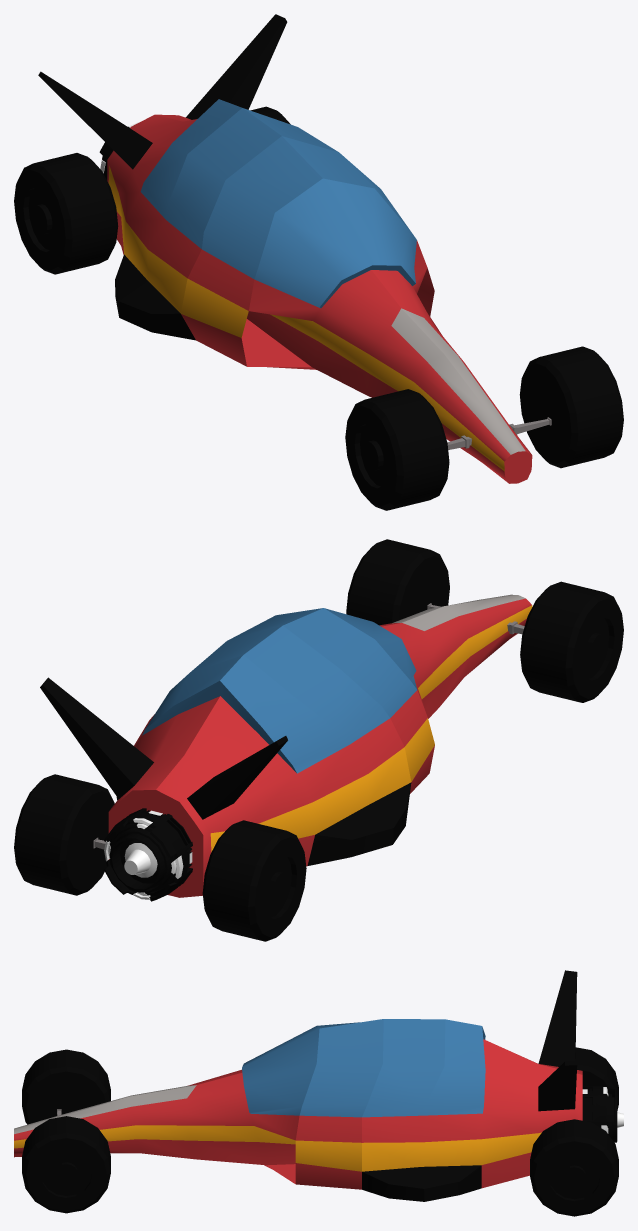
The picture shows the model from 3 angles, top to bottom: view 1: azimuth 30°, elevation 25°; view 2: azimuth 150°, elevation 25°; view 3: azimuth 270°, elevation 25°; orthographic projection. The views are drawn at different scales.
Parts seen in each view (by area): view 1: polySurface8, front right tyre, back right tyre, front left tyre.001, polySurface1, polySurface6, polySurface4, polySurface7; view 2: polySurface8, front right tyre, back right tyre, back left tyre, front left tyre.001, thruster3, polySurface6, polySurface4, polySurface7, polySurface1; view 3: polySurface8, front left tyre.001, back left tyre, front right tyre, polySurface3, polySurface7, polySurface1, thruster3, polySurface6, back right tyre.
Part boxes in pixels (left/top/right/bottom): polySurface8: left=107, top=99, right=551, bottom=483; front right tyre: left=345, top=389, right=449, bottom=510; back right tyre: left=14, top=153, right=118, bottom=274; front left tyre.001: left=519, top=346, right=623, bottom=468; polySurface1: left=391, top=308, right=525, bottom=454; polySurface6: left=186, top=14, right=287, bottom=119; polySurface4: left=115, top=254, right=195, bottom=340; polySurface7: left=38, top=71, right=152, bottom=169; polySurface8: left=93, top=598, right=532, bottom=897; front right tyre: left=520, top=581, right=623, bottom=702; back right tyre: left=202, top=820, right=306, bottom=941; back left tyre: left=14, top=774, right=114, bottom=895; front left tyre.001: left=346, top=539, right=449, bottom=625; thruster3: left=104, top=808, right=192, bottom=901; polySurface6: left=40, top=677, right=153, bottom=798; polySurface4: left=307, top=782, right=411, bottom=865; polySurface7: left=187, top=736, right=287, bottom=819; polySurface1: left=392, top=594, right=525, bottom=630; polySurface8: left=14, top=1019, right=582, bottom=1189; front left tyre.001: left=22, top=1116, right=110, bottom=1213; back left tyre: left=530, top=1119, right=618, bottom=1216; front right tyre: left=22, top=1049, right=110, bottom=1124; polySurface3: left=362, top=1165, right=481, bottom=1201; polySurface7: left=538, top=970, right=577, bottom=1066; polySurface1: left=14, top=1085, right=196, bottom=1134; thruster3: left=582, top=1085, right=623, bottom=1142; polySurface6: left=538, top=1061, right=577, bottom=1111; back right tyre: left=575, top=1047, right=618, bottom=1110.
Size of the model in its own units: 3.52 by 2.45 by 8.68.
